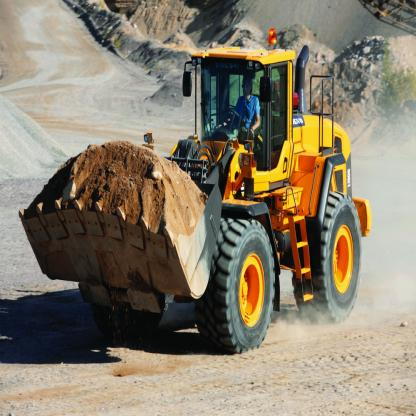bull_dozer/loader/grader: (19, 32, 376, 358)
